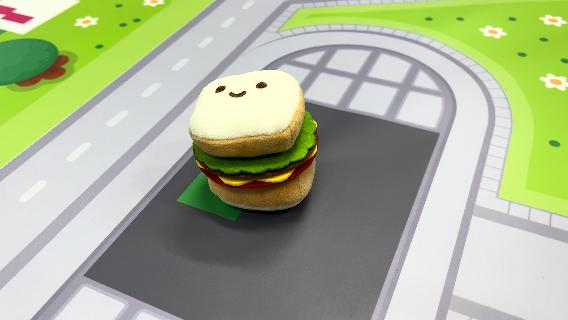sandwich: (187, 68, 321, 212)
